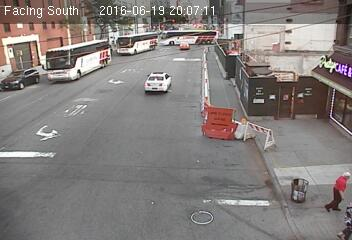neg: (225, 54, 241, 76), (253, 85, 269, 107), (301, 82, 314, 100), (10, 49, 23, 66)
pos: (323, 168, 351, 212), (338, 208, 351, 237)
